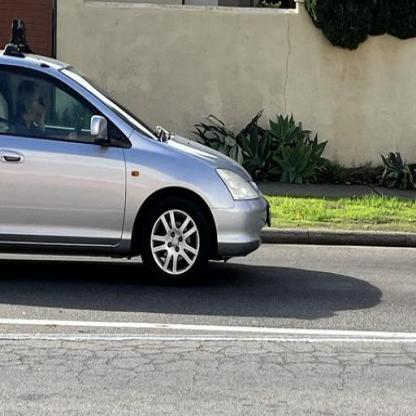Tire: (140, 196, 212, 288)
